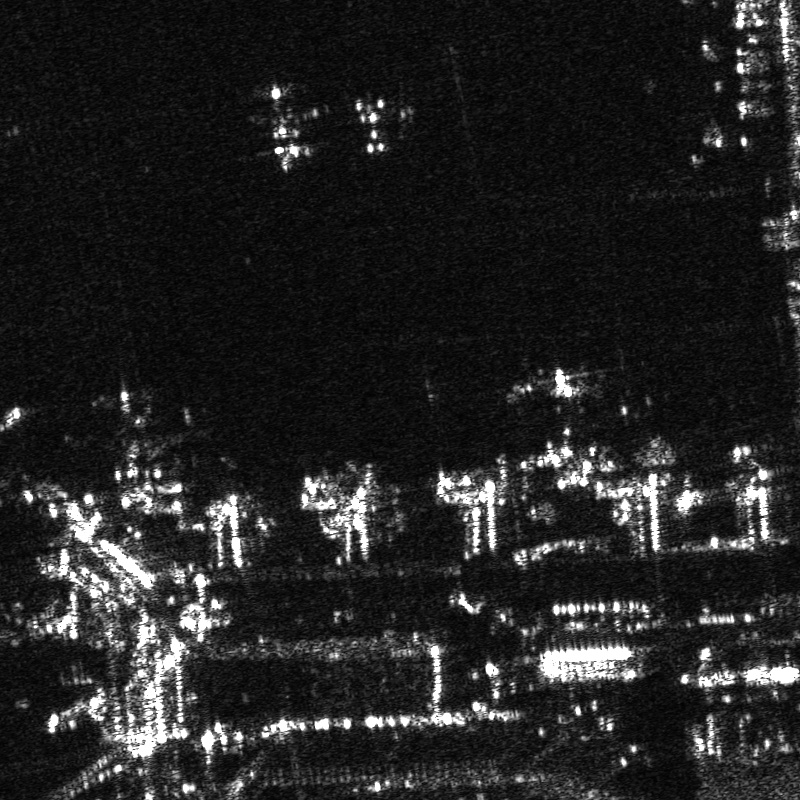A220: (350, 91, 423, 163)
Boeing787: (527, 364, 597, 418)
other: (44, 371, 214, 494), (232, 68, 339, 181)
